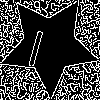I: (24, 20, 49, 69)
